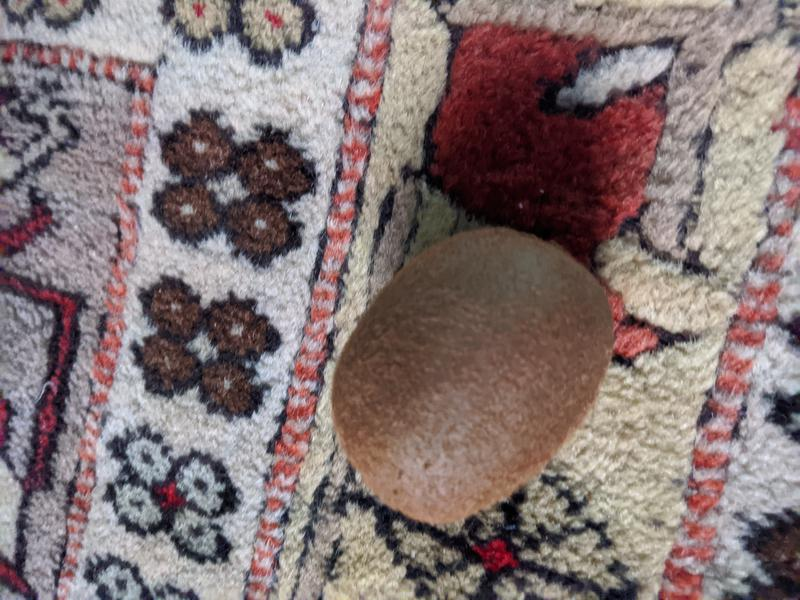kiwi: (329, 225, 614, 523)
